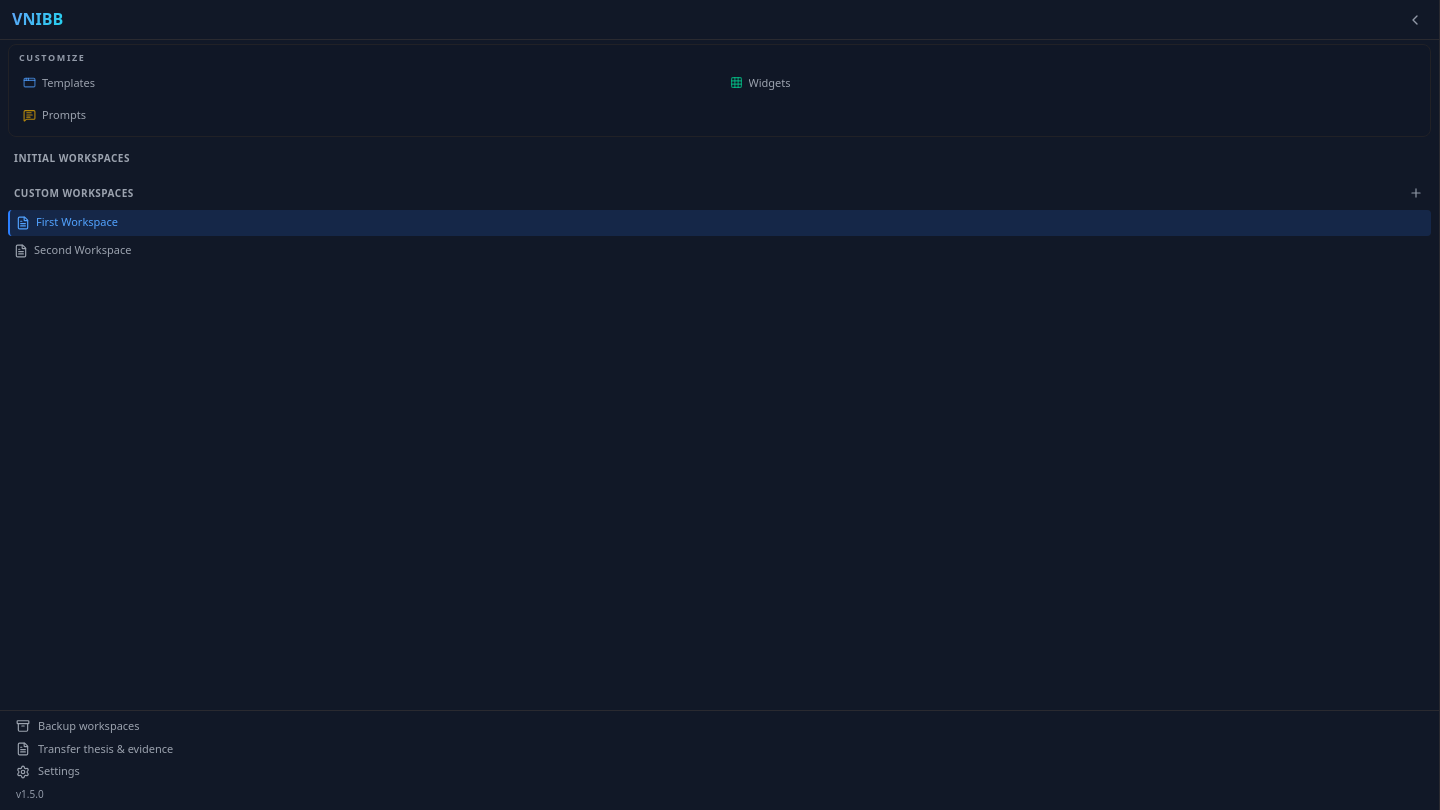
Test case: Sidebar context menu accessibility › opens backup restore without changing the active workspace
The width and height of the screenshot is (1440, 810).
Click the button "Backup workspaces" at (89, 726), box [8,715,1431,738]
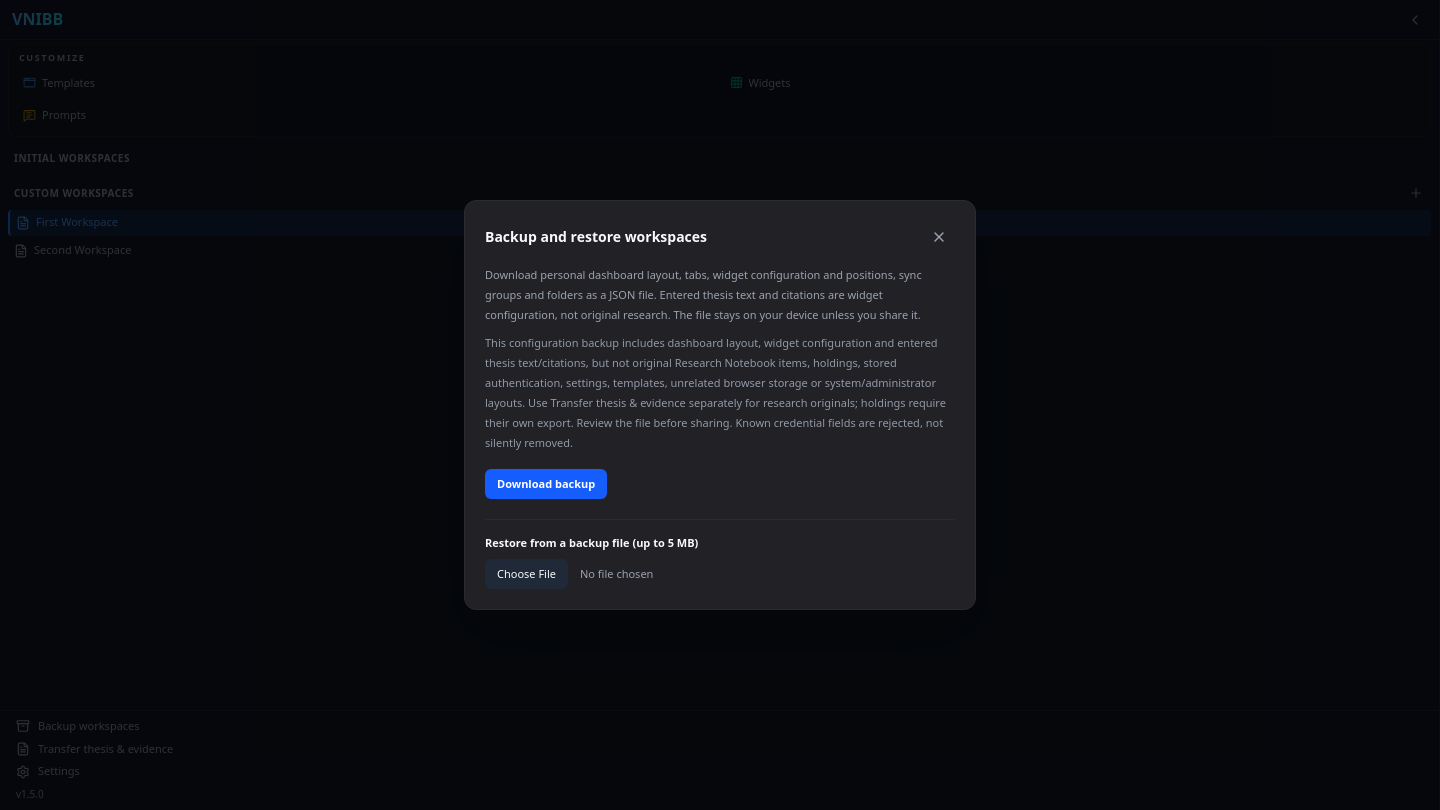
Result: the dialog "Backup and restore workspaces" is shown at [464,200,976,610]
Click the button named "Close backup dialog" at (939, 236), box [923,220,955,252]
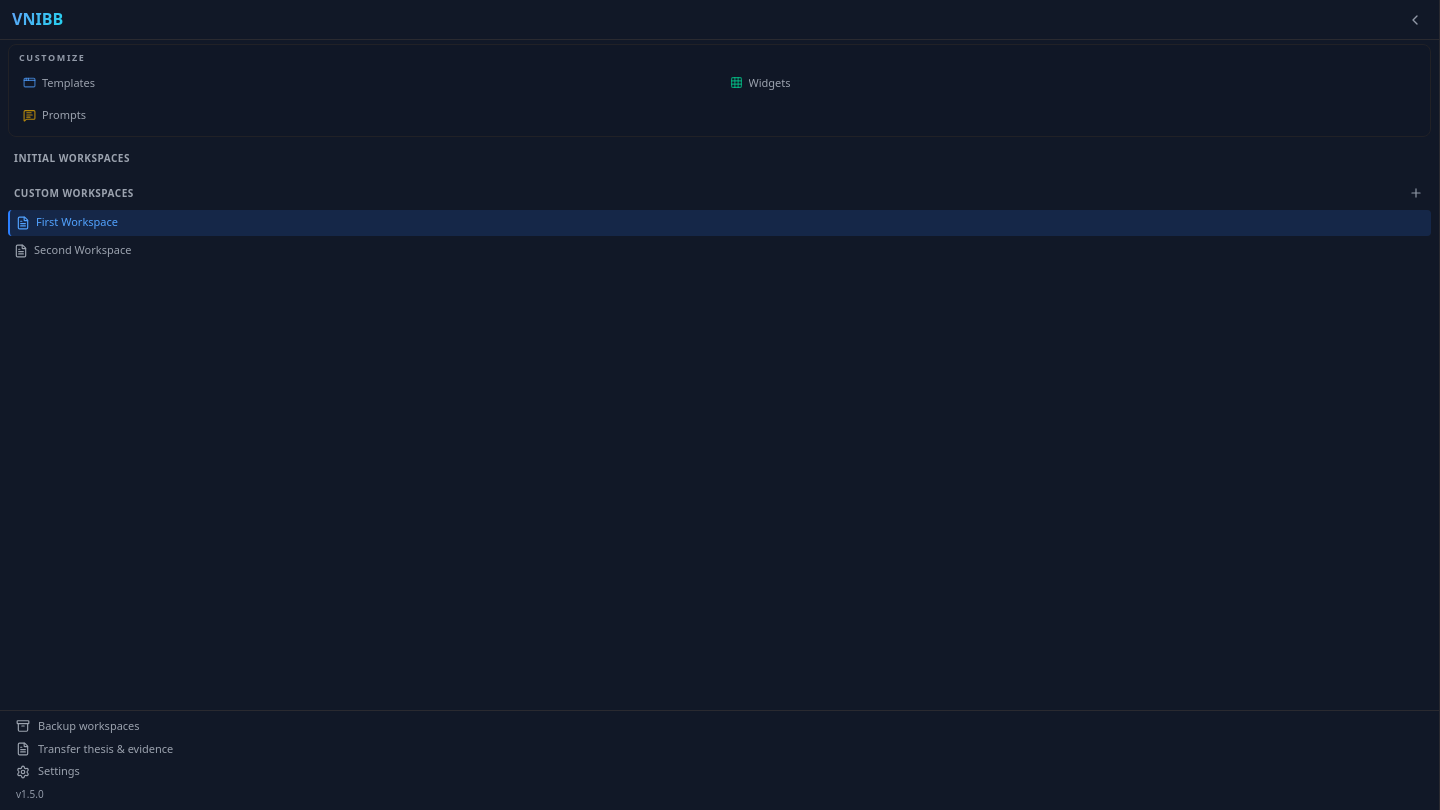
Result: the dialog is gone
